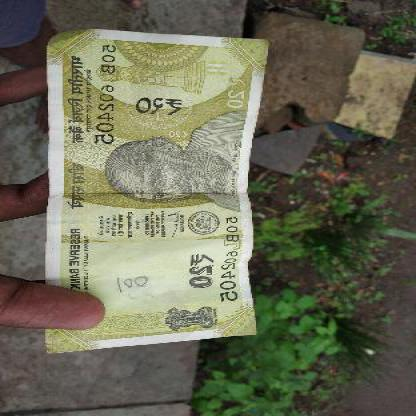New20Front: (45, 33, 252, 335)
